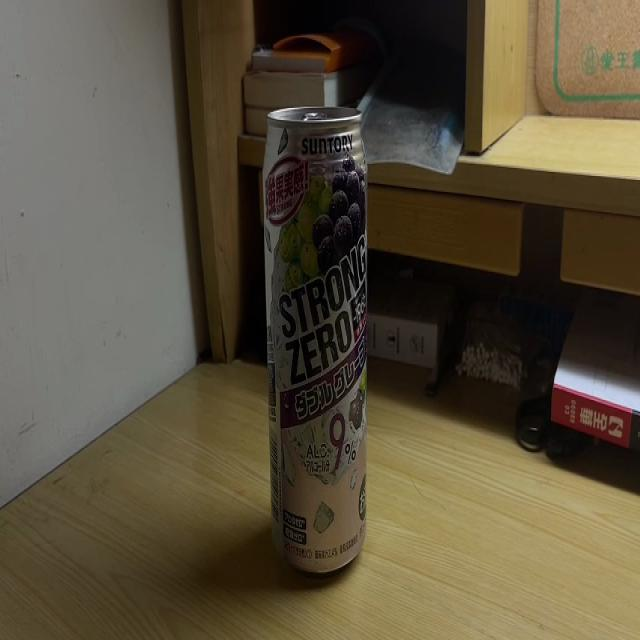Liquor: (262, 102, 370, 574)
